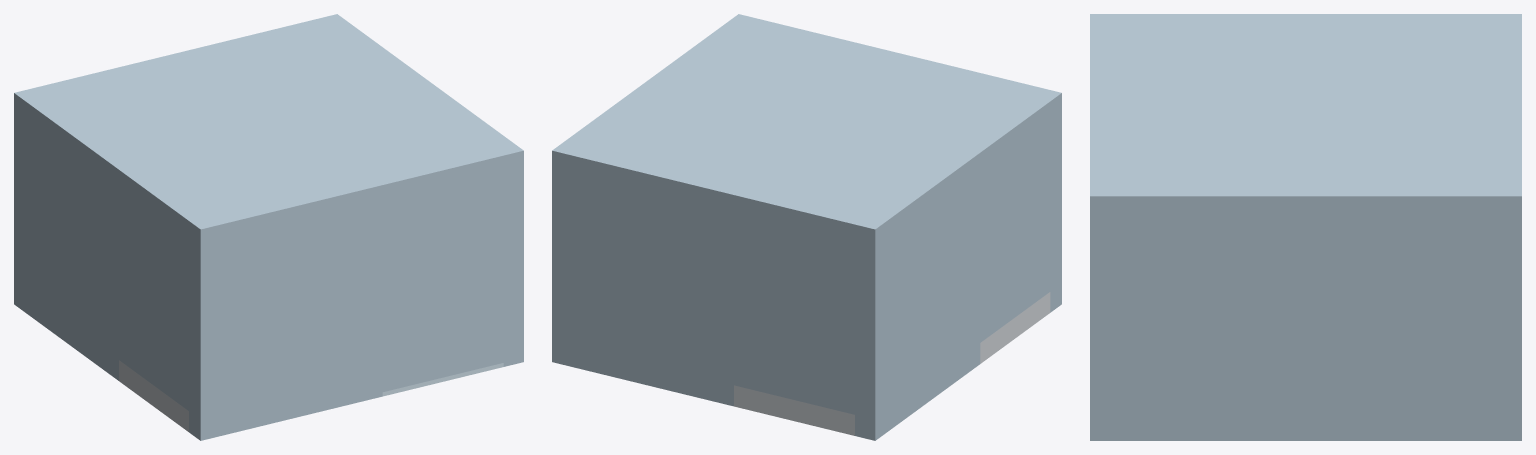
File: frozen-slide-spring.glb
The picture shows the model from 3 angles, left to right: view 1: azimuth 30°, elevation 25°; view 2: azimuth 150°, elevation 25°; view 3: azimuth 270°, elevation 25°; orthographic projection. The views are drawn at different scales.
Visible parts, largest first — view 1: ice-rock_10, ice-rock_6, ice-rock_1, plug_slide_south, plug_ice_west, ice-rock_5, ice-rock_4, ice-rock_8, ice-rock_9, plug_slide_south.001, snow_3, ice_2; view 2: ice-rock_10, ice-rock_2, ice-rock_1, plug_ice_north, plug_ice_west, ice-rock_7, ice-rock_8, snow_1, ice-rock_6, snow_3; view 3: ice-rock_10, ice-rock_4, ice-rock_3, ice-rock_2.
Boxes of the visible parts, x1,y1,x2,y2 form: ice-rock_10: [14, 14, 523, 250]; ice-rock_6: [189, 211, 362, 440]; ice-rock_1: [14, 114, 118, 380]; plug_slide_south: [382, 198, 503, 375]; plug_ice_west: [119, 233, 188, 410]; ice-rock_5: [362, 206, 382, 401]; ice-rock_4: [503, 172, 523, 366]; ice-rock_8: [119, 191, 188, 283]; ice-rock_9: [382, 177, 503, 227]; plug_slide_south.001: [382, 346, 503, 391]; snow_3: [119, 360, 188, 431]; ice_2: [382, 363, 503, 396]; ice-rock_10: [552, 14, 1061, 250]; ice-rock_2: [552, 172, 733, 406]; ice-rock_1: [855, 174, 980, 440]; plug_ice_north: [734, 258, 854, 414]; plug_ice_west: [980, 165, 1050, 342]; ice-rock_7: [734, 216, 854, 287]; ice-rock_8: [980, 123, 1050, 215]; snow_1: [734, 385, 854, 435]; ice-rock_6: [1050, 114, 1061, 312]; snow_3: [980, 292, 1050, 363]; ice-rock_10: [1090, 14, 1521, 220]; ice-rock_4: [1090, 221, 1440, 440]; ice-rock_3: [1441, 221, 1494, 440]; ice-rock_2: [1495, 221, 1521, 440].
Bounding box in the file's own units: 8 × 5 × 8.
